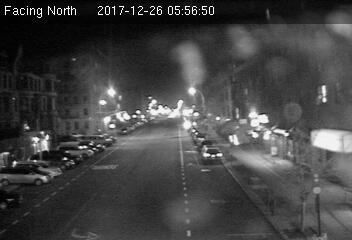car: (201, 147, 224, 162)
